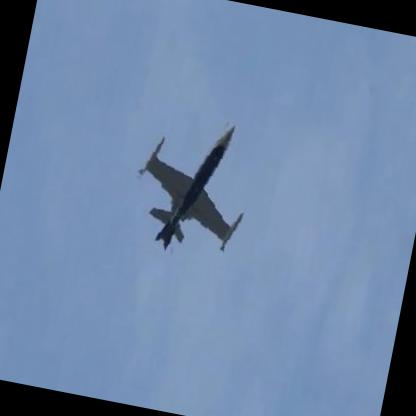plane: (119, 102, 272, 272)
